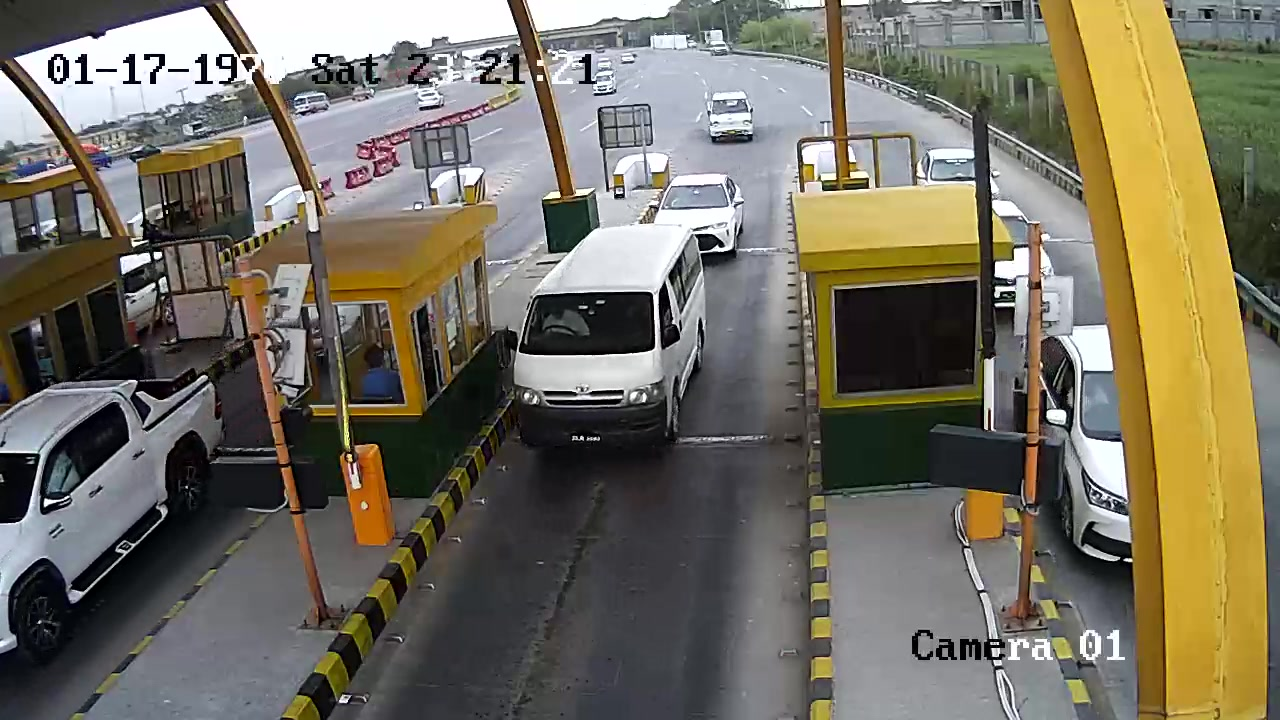F3: (504, 223, 710, 470)
